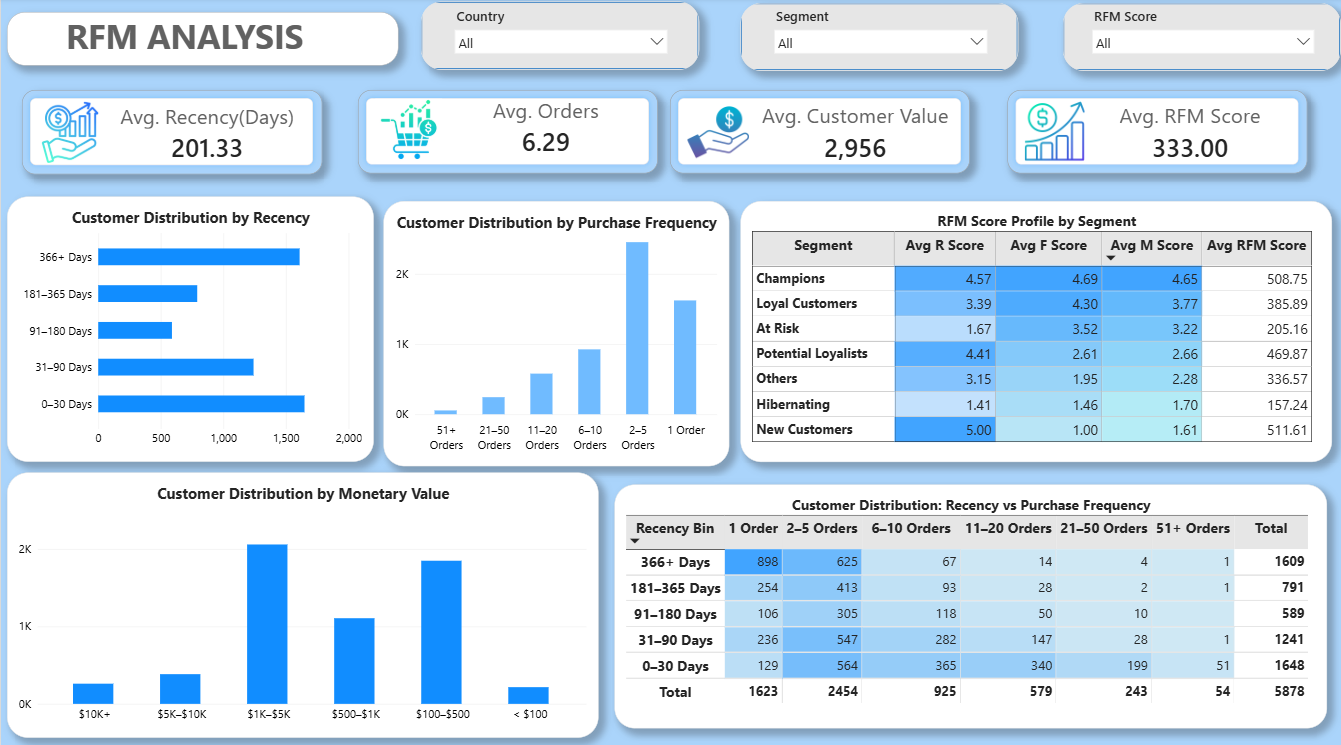

The dashboard page shown, as its layout file describes it:
{"tool":"powerbi","page":{"name":"RFM Analysis","canvas":[1920,1080],"ordinal":2},"visuals":[{"type":"textbox","box":[9.5,21.5,560.7,76.3],"z":0},{"type":"shape","box":[601.3,7.2,398.4,97.8],"z":1000},{"type":"shape","box":[1522,9.1,398,97.2],"z":3000},{"type":"cardVisual","fields":{"Data":["Avg(Customer_RFM_ML.Recency)"]},"box":[30.7,132.3,430,120.5],"z":4000},{"type":"cardVisual","fields":{"Data":["Avg(Customer_RFM.Frequency)"]},"box":[510.6,133.6,429.5,119.3],"z":5000},{"type":"cardVisual","fields":{"Data":["Avg(Customer_RFM_ML.Monetary)"]},"box":[959.1,133.6,429.5,119.3],"z":6000},{"type":"cardVisual","fields":{"Data":["Avg(Customer_RFM.RFM_Score)"]},"box":[1441.1,133.6,429.5,119.3],"z":7000},{"type":"barChart","title":"Customer Distribution by Recency","fields":{"Category":["Customer_RFM.Recency Bin"],"Y":["CountNonNull(Customer_RFM.Customer ID)"]},"box":[8.6,270.7,526.4,380.3],"z":8000},{"type":"columnChart","title":"Customer Distribution by Purchase Frequency","fields":{"Category":["Customer_RFM.Frequency Bin"],"Y":["CountNonNull(Customer_RFM.Customer ID)"]},"box":[554.3,272.9,494.2,378.2],"z":9000},{"type":"clusteredColumnChart","title":"Customer Distribution by Monetary Value","fields":{"Category":["Customer_RFM.Monetary Bin"],"Y":["CountNonNull(Customer_RFM.Customer ID)"]},"box":[9.1,680.5,847.6,379.7],"z":10000},{"type":"pivotTable","title":"Customer Distribution: Recency vs Purchase Frequency","fields":{"Columns":["Customer_RFM.Frequency Bin"],"Rows":["Customer_RFM.Recency Bin"],"Values":["CountNonNull(Customer_RFM.Customer ID)"]},"box":[878,698.7,1020.8,349.4],"z":11000},{"type":"pivotTable","title":"RFM Score Profile by Segment","fields":{"Rows":["Customer_RFM.Segment"],"Values":["Avg(Customer_RFM.R_Score)","Avg(Customer_RFM.F_Score)","Avg(Customer_RFM.M_Score)","Avg(Customer_RFM.RFM_Score)"]},"box":[1072.1,277.2,827.2,373.9],"z":12000},{"type":"shape","box":[1060.3,9.1,398,97.2],"z":13000},{"type":"slicer","fields":{"Values":["Transactions.Country"]},"box":[644.2,14.3,314.9,90.7],"z":14000},{"type":"slicer","fields":{"Values":["Customer_RFM.RFM_Score"]},"box":[1558.5,15.2,328.1,82],"z":15000},{"type":"slicer","fields":{"Values":["Customer_RFM_ML.Segment"]},"box":[1102.8,15.2,315.9,91.1],"z":15500}]}

Visuals, with their boxes in screenshot pixels (x1, y1, x2, y2), scaled from the page's 1920x1080 canvas onto the 1341x745 screenshot:
textbox: [left=7, top=15, right=398, bottom=67]
shape: [left=420, top=5, right=698, bottom=72]
shape: [left=1063, top=6, right=1340, bottom=73]
cardVisual - Avg(Customer_RFM_ML.Recency): [left=21, top=91, right=322, bottom=174]
cardVisual - Avg(Customer_RFM.Frequency): [left=357, top=92, right=657, bottom=174]
cardVisual - Avg(Customer_RFM_ML.Monetary): [left=670, top=92, right=970, bottom=174]
cardVisual - Avg(Customer_RFM.RFM_Score): [left=1007, top=92, right=1306, bottom=174]
"Customer Distribution by Recency" barChart: [left=6, top=187, right=374, bottom=449]
"Customer Distribution by Purchase Frequency" columnChart: [left=387, top=188, right=732, bottom=449]
"Customer Distribution by Monetary Value" clusteredColumnChart: [left=6, top=469, right=598, bottom=731]
"Customer Distribution: Recency vs Purchase Frequency" pivotTable: [left=613, top=482, right=1326, bottom=723]
"RFM Score Profile by Segment" pivotTable: [left=749, top=191, right=1327, bottom=449]
shape: [left=741, top=6, right=1019, bottom=73]
slicer - Transactions.Country: [left=450, top=10, right=670, bottom=72]
slicer - Customer_RFM.RFM_Score: [left=1089, top=10, right=1318, bottom=67]
slicer - Customer_RFM_ML.Segment: [left=770, top=10, right=991, bottom=73]
